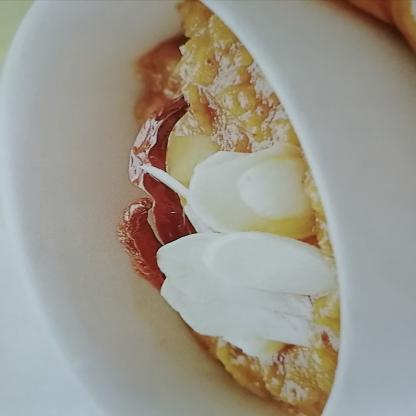Namprig: (87, 1, 352, 415)
